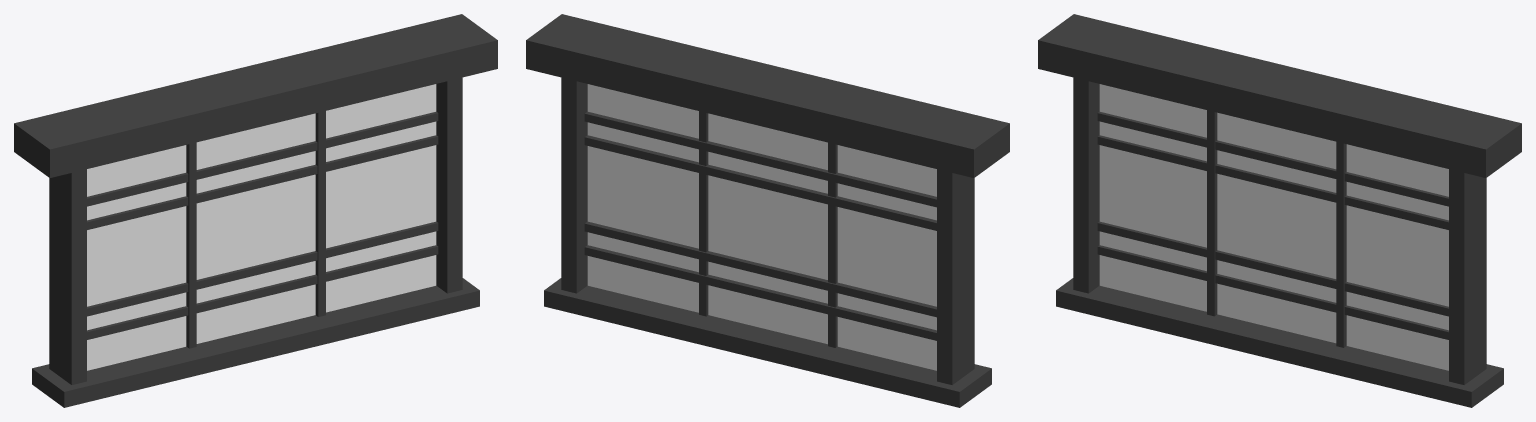
Rendered from window_021.fbx.
The picture shows the model from 3 angles, left to right: view 1: azimuth 30°, elevation 25°; view 2: azimuth 150°, elevation 25°; view 3: azimuth 330°, elevation 25°; orthographic projection.
Visible parts, largest first — view 1: window_021; view 2: window_021; view 3: window_021.
Boxes of the visible parts, x1,y1,x2,y2 form: window_021: (14, 14, 497, 407); window_021: (526, 14, 1009, 407); window_021: (1038, 14, 1521, 407).
Bounding box in the file's own units: 343 × 47.45 × 193.
